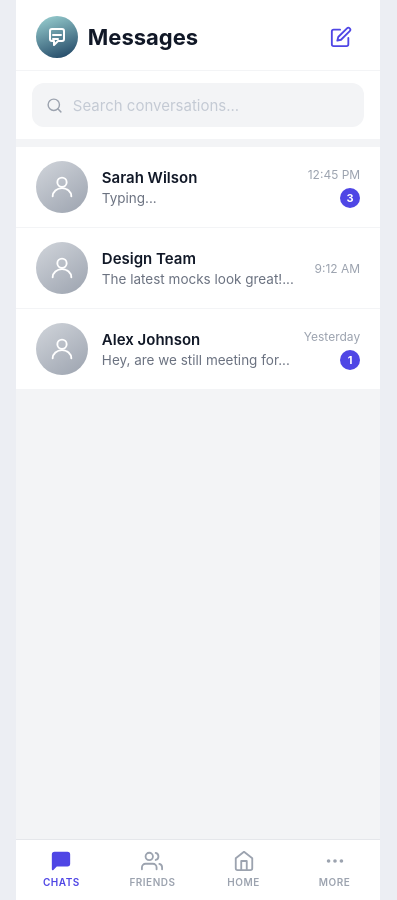
Test: ChatListPage › 검색어 입력 시 목록을 필터링한다
Expected: the text "Sarah Wilson" is shown, [102,168,197,187]
Type "Design" into the field with placeholder "Search conversations...". click: {"x": 211, "y": 105}
box: [73,83,350,127]
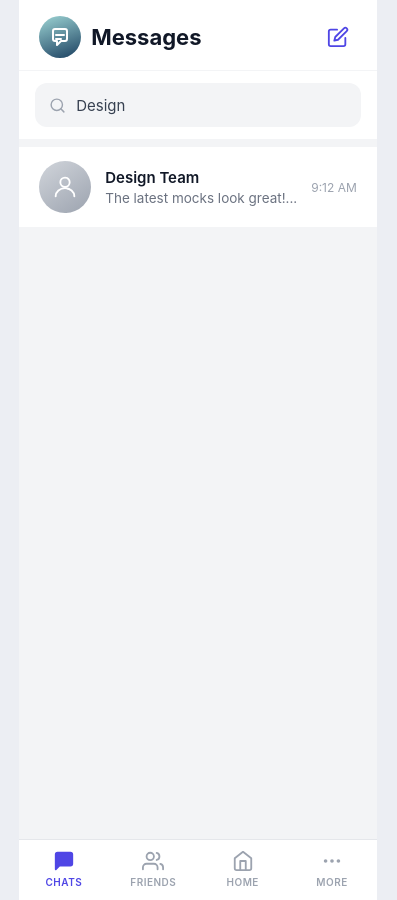
Expected: the text "Design Team" is shown, [105,168,199,187]
Now the link "Sarah Wilson" is gone
Now the link "Alex Johnson" is gone
